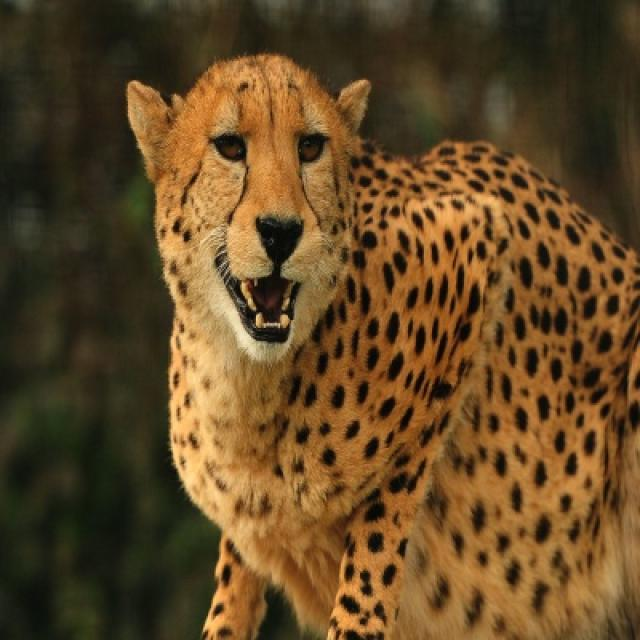Cheetah: (125, 53, 638, 638)
